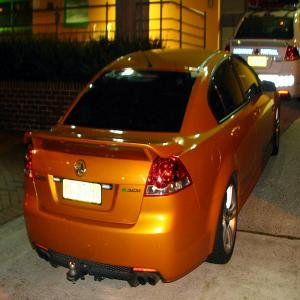Vehicle-registration-plate: (62, 182, 101, 214)
